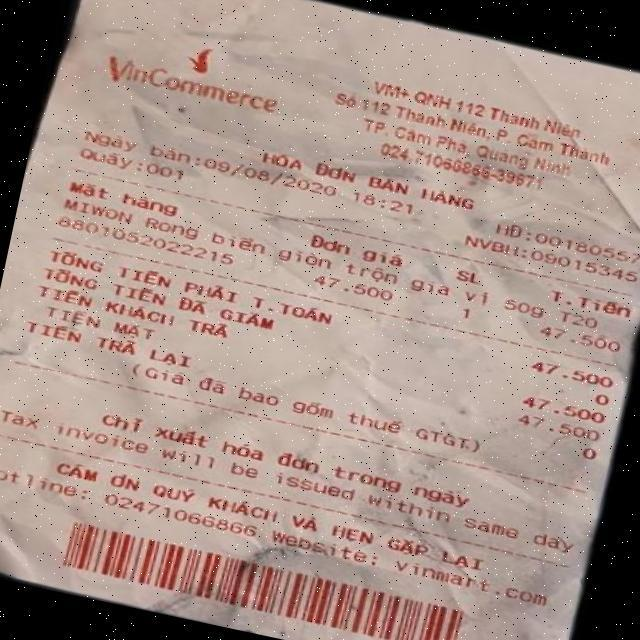Date: (199, 154, 342, 202)
Store_Name: (90, 18, 303, 129)
amount_number: (520, 351, 620, 394)
label_total: (45, 244, 342, 328)
